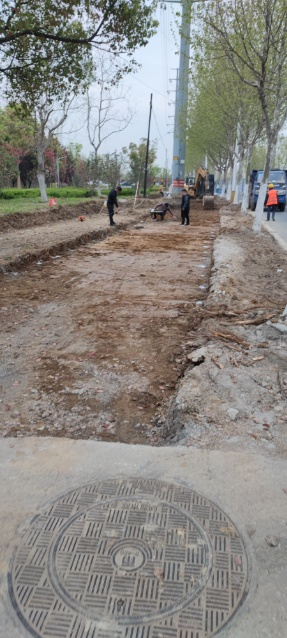well: (5, 475, 252, 638)
